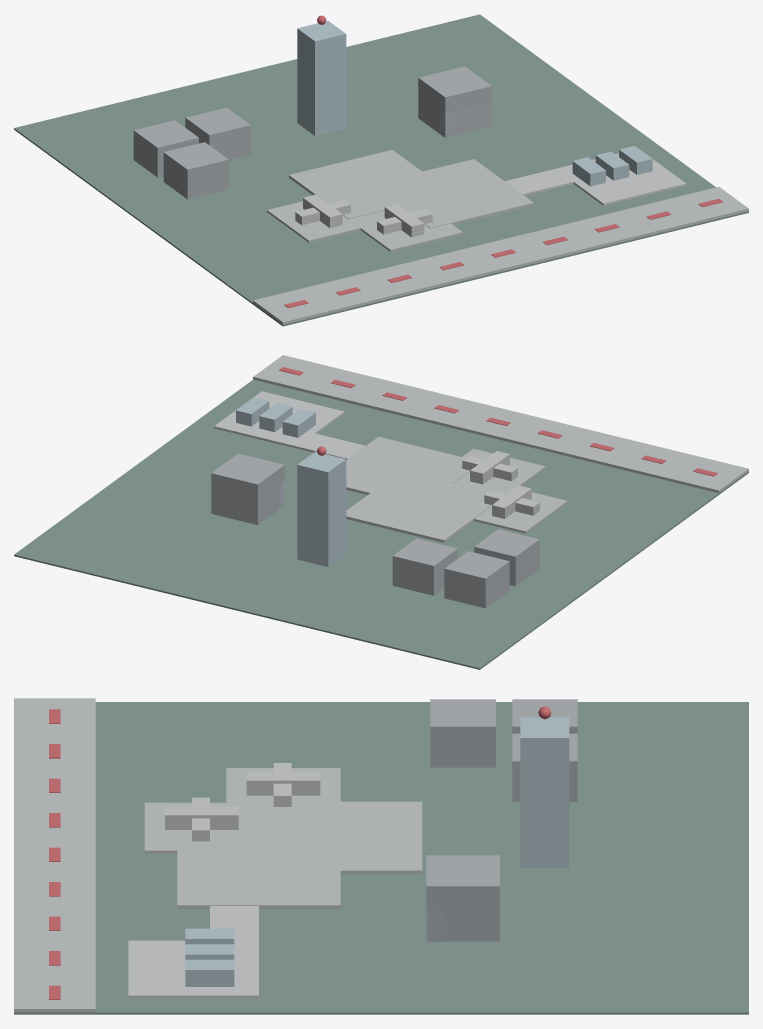
File: stage_11.glb
3 renders of one model, top to bottom at view 1: azimuth 30°, elevation 25°; view 2: azimuth 150°, elevation 25°; view 3: azimuth 270°, elevation 25°, orthographic. The views are drawn at different scales.
Parts seen in each view (by area): view 1: geometry_0; view 2: geometry_0; view 3: geometry_0.
Boxes of the visible parts, x1=… form: geometry_0: x1=14, y1=14, x2=748, y2=326; geometry_0: x1=14, y1=355, x2=748, y2=669; geometry_0: x1=14, y1=698, x2=748, y2=1014.
Size of the model in its own units: 9 by 2.06 by 9.
